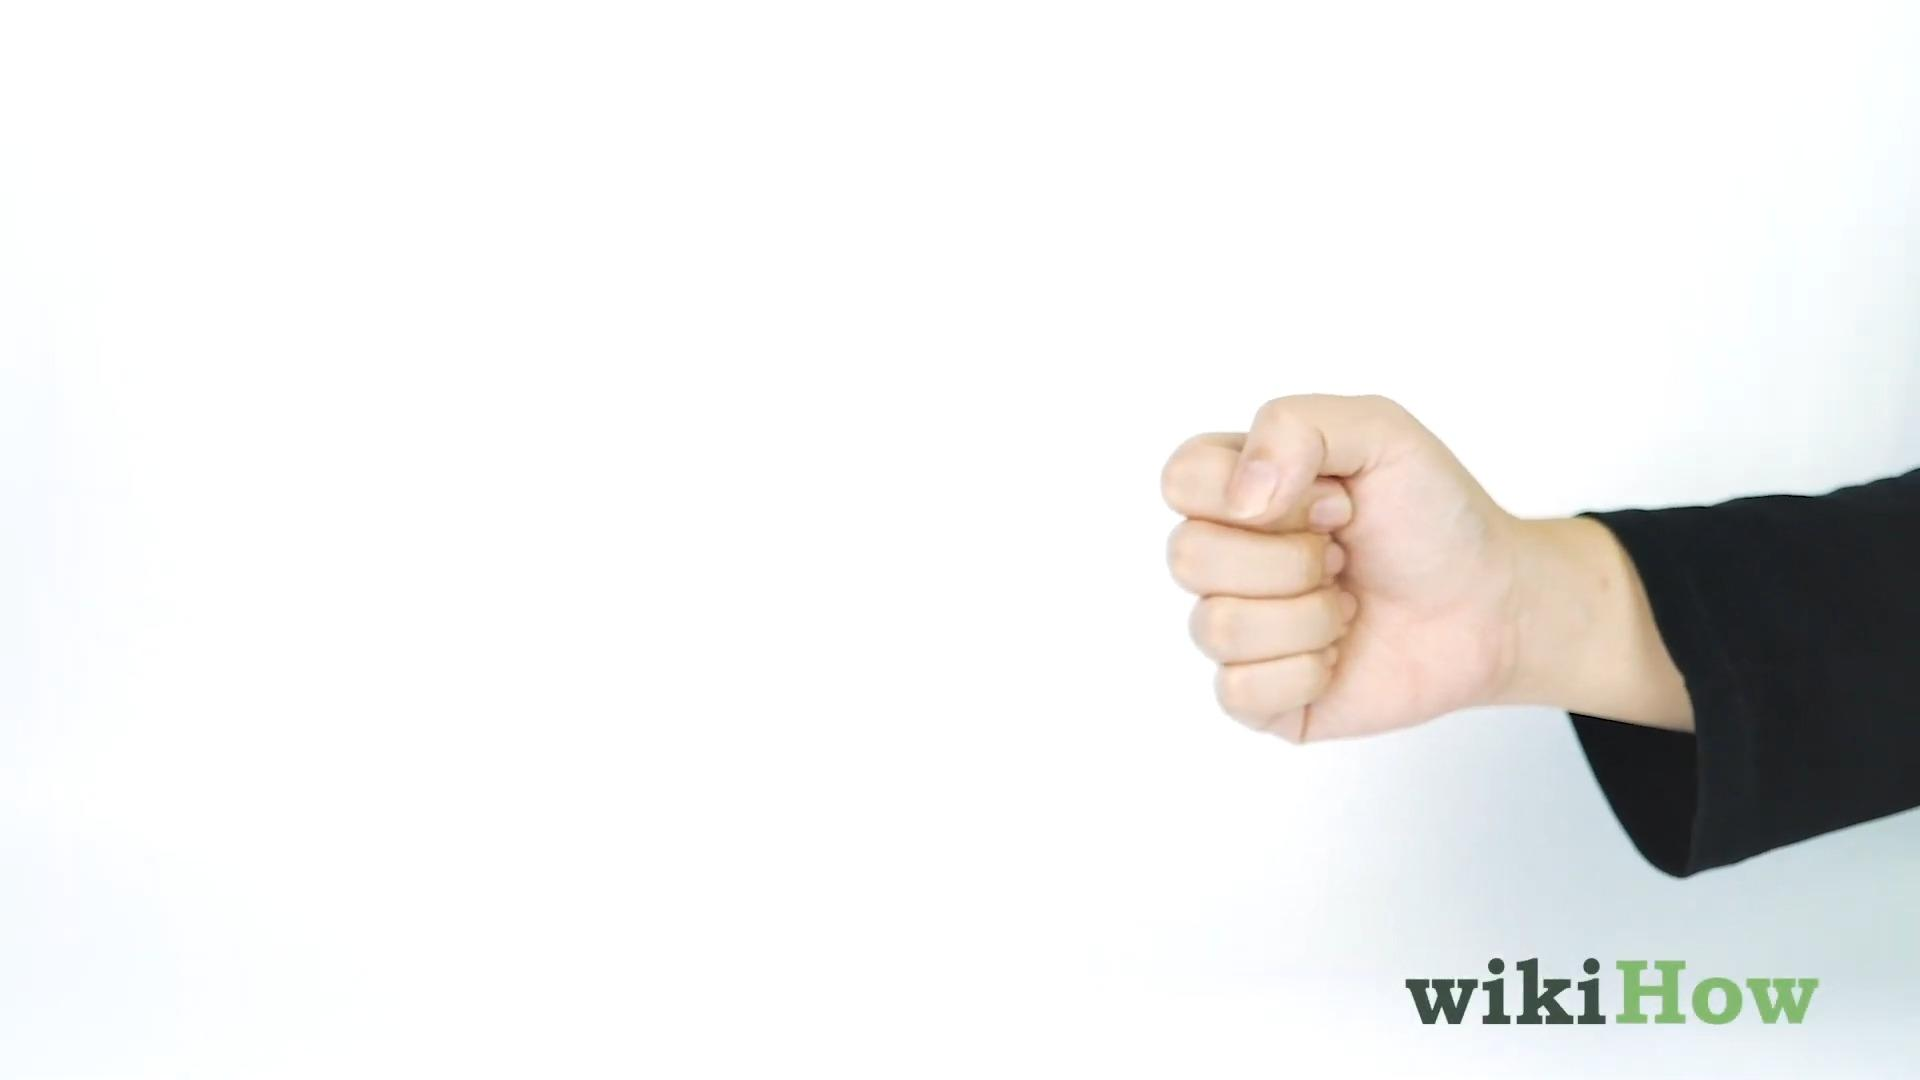Rock: (1158, 382, 1498, 752)
